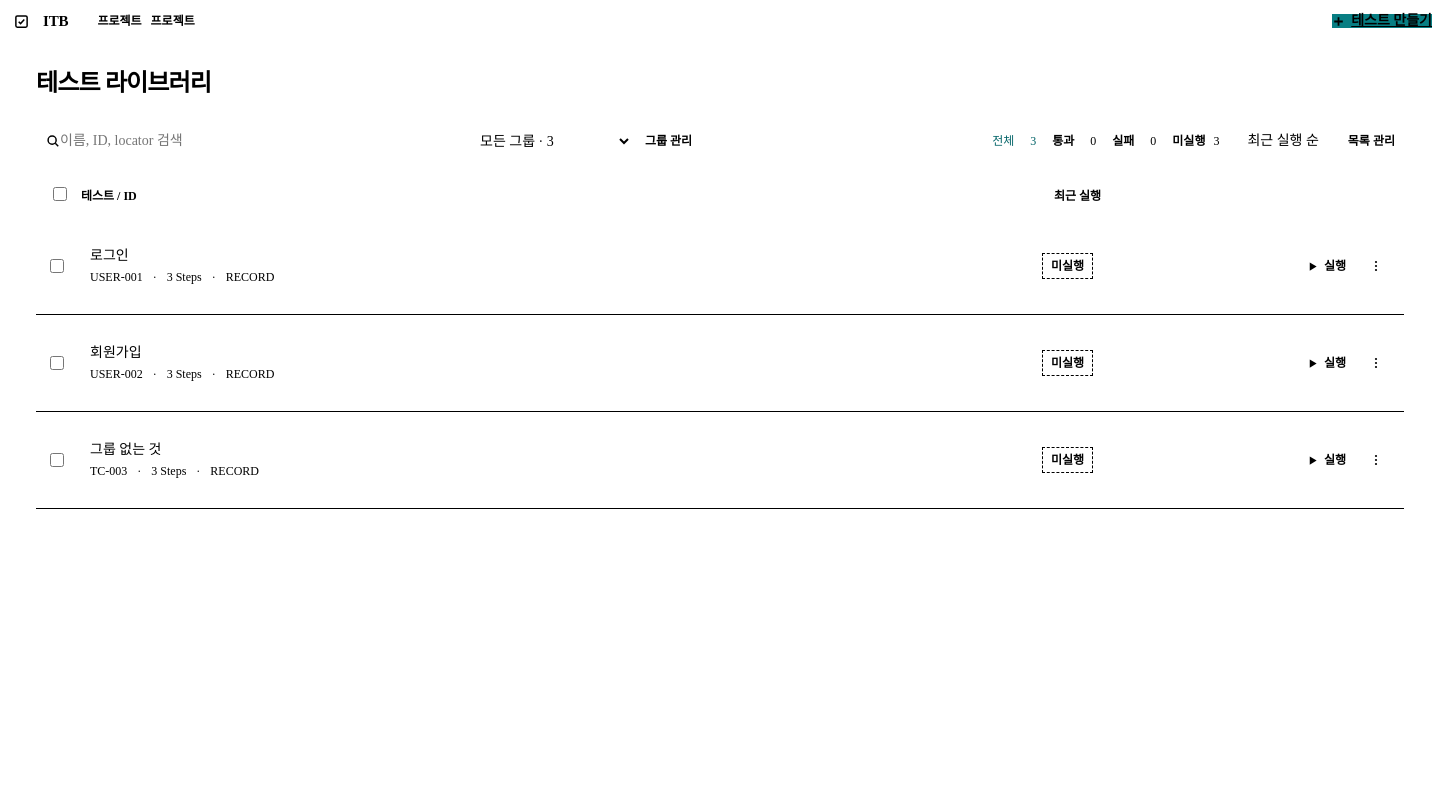
Test case: 그룹 정리 › 조작은 그 그룹을 고른 상태에서만 나온다
Expected: the text "로그인" is shown, [90,248,129,263]
Expected: the button "그룹 없애기" is not shown
Select "사용자관리 테스트 · 2" in the dropdown named "그룹으로 거르기" at (549, 141), box [466,124,632,158]
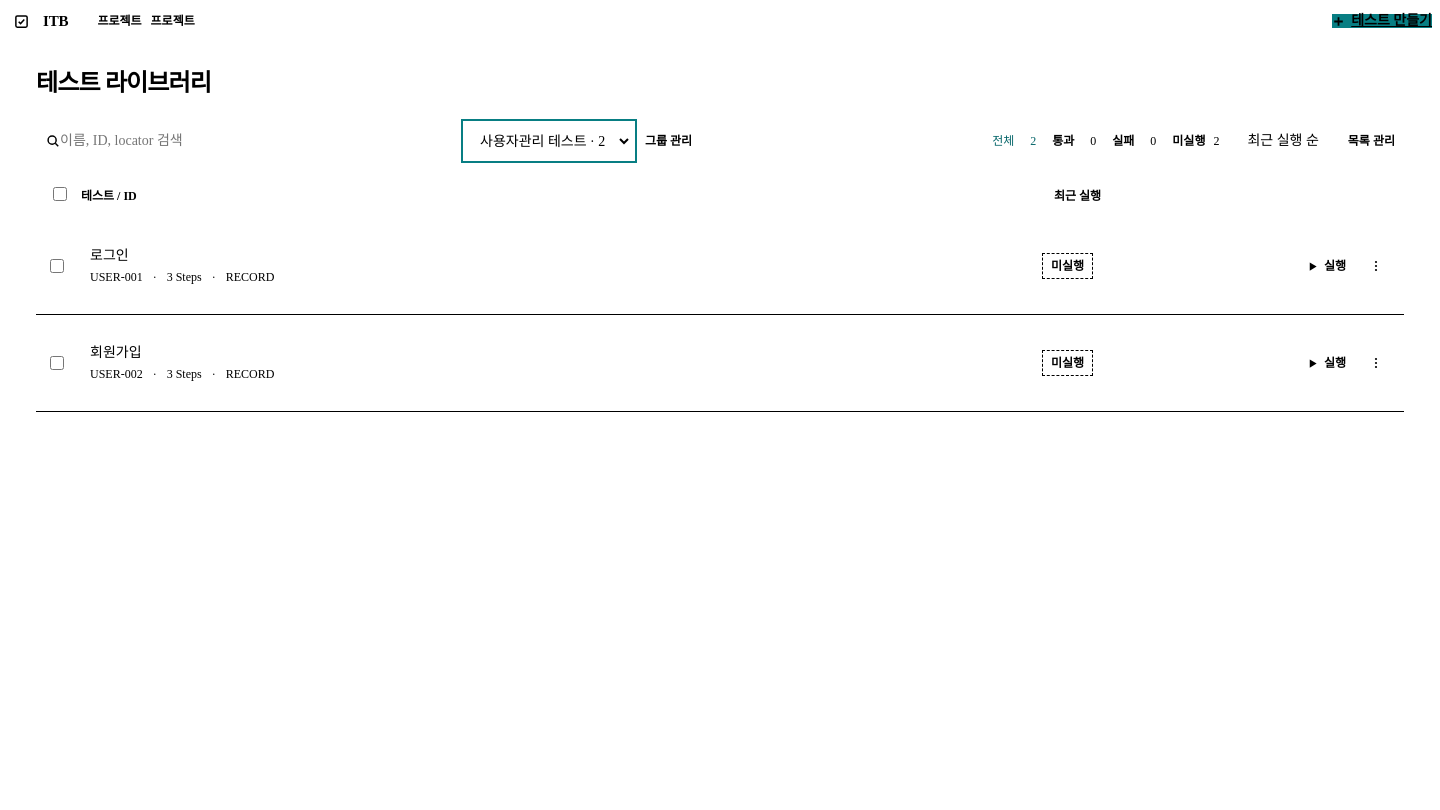
Click the button "그룹 관리" at (669, 141), box [636,134,701,148]
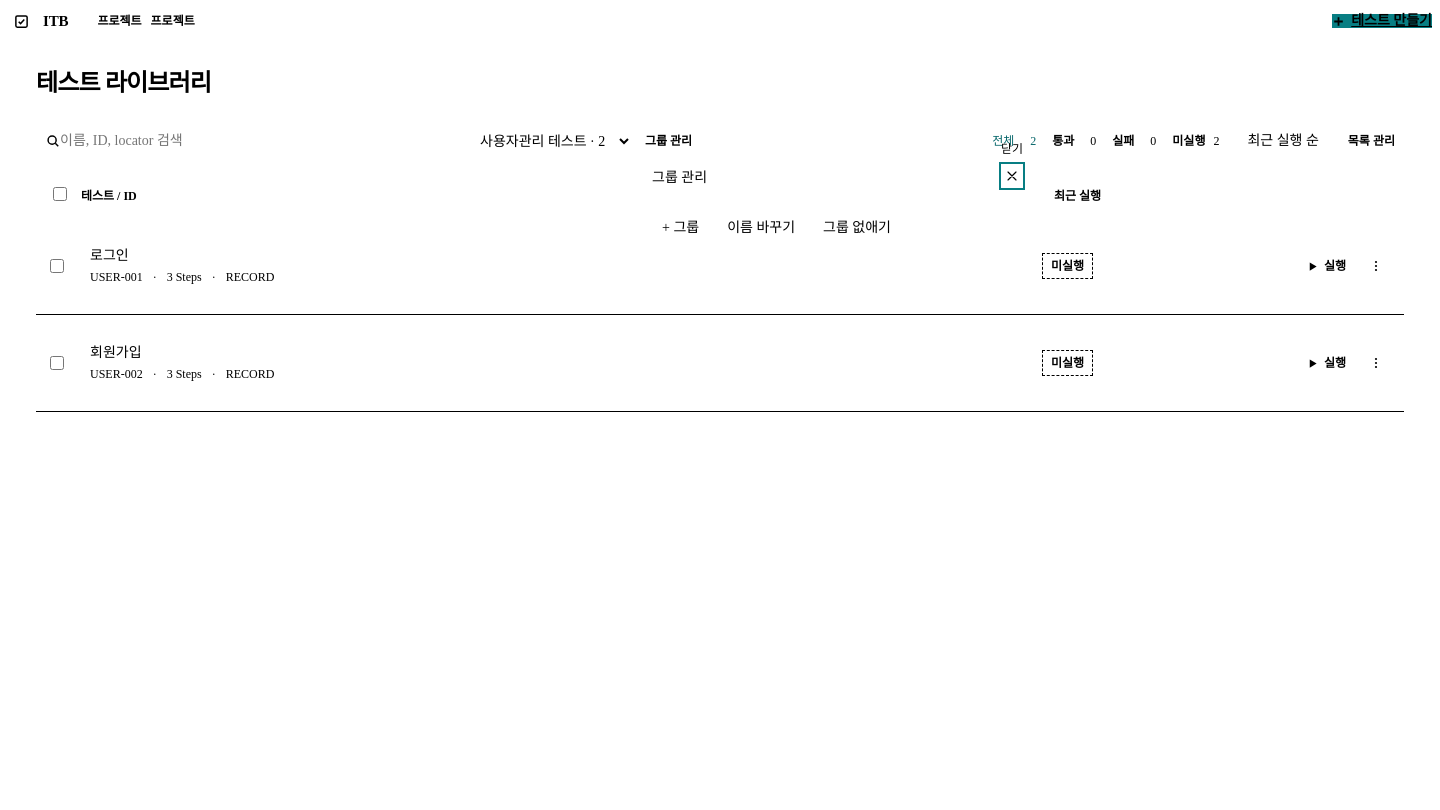
Now the button "그룹 없애기" is shown, box [813,214,901,242]
Now the button "이름 바꾸기" is shown, box [717,214,805,242]
